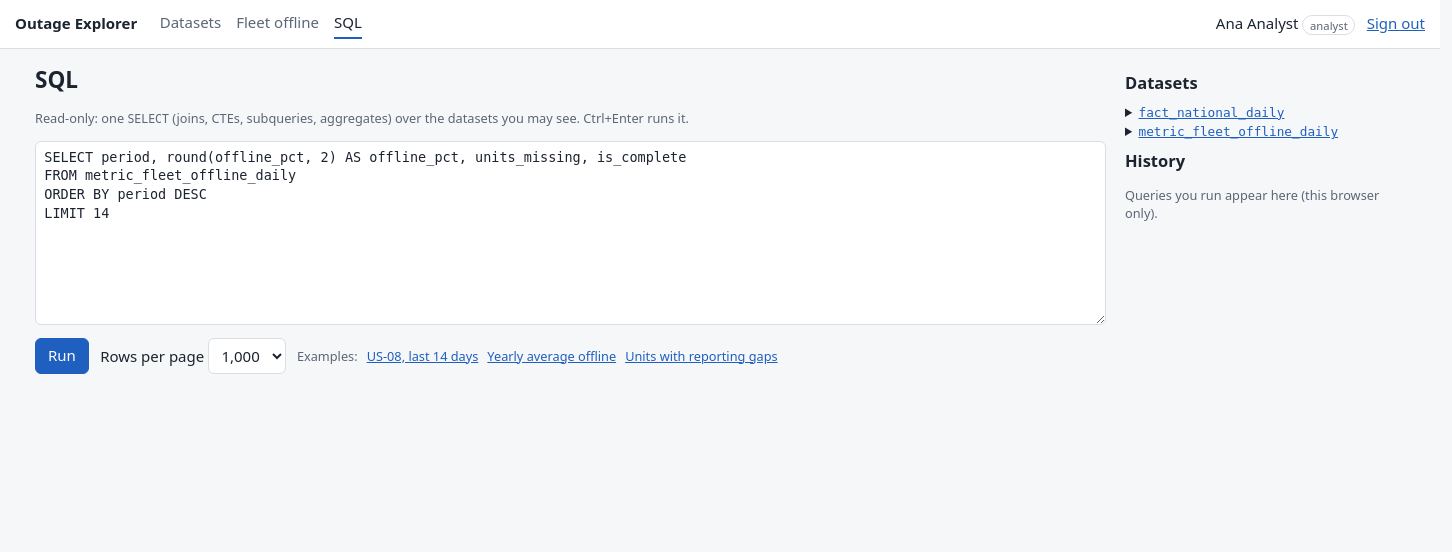
Test: SQL page › running the editor again starts from the first page
Click the button "Run" at (62, 356), box [35, 338, 89, 374]
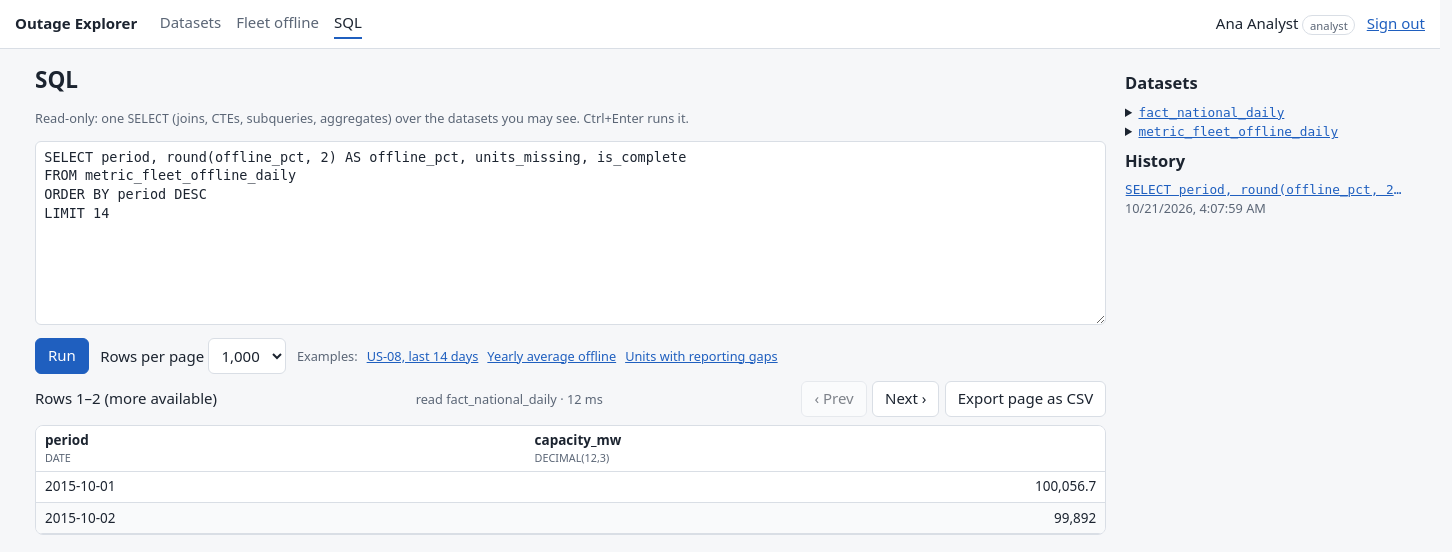
Click the button "Next ›" at (906, 399), box [872, 381, 940, 417]
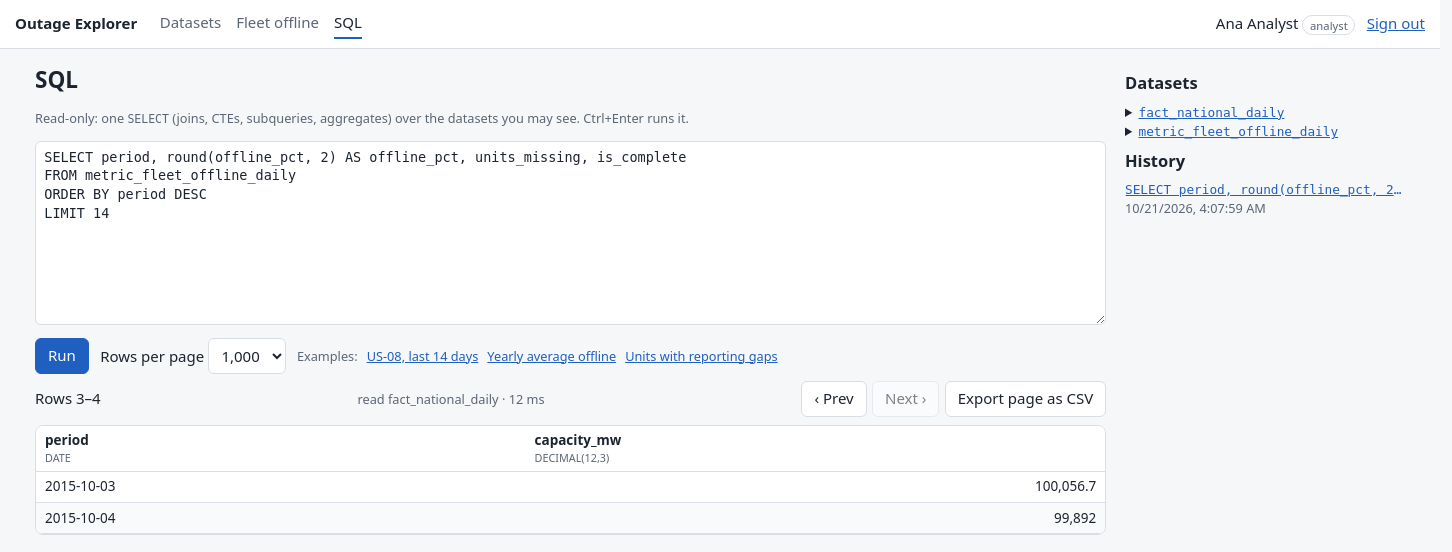
Now the text "Rows 3–4" is shown, box [35, 388, 101, 410]
Click the button "Run" at (62, 356), box [35, 338, 89, 374]
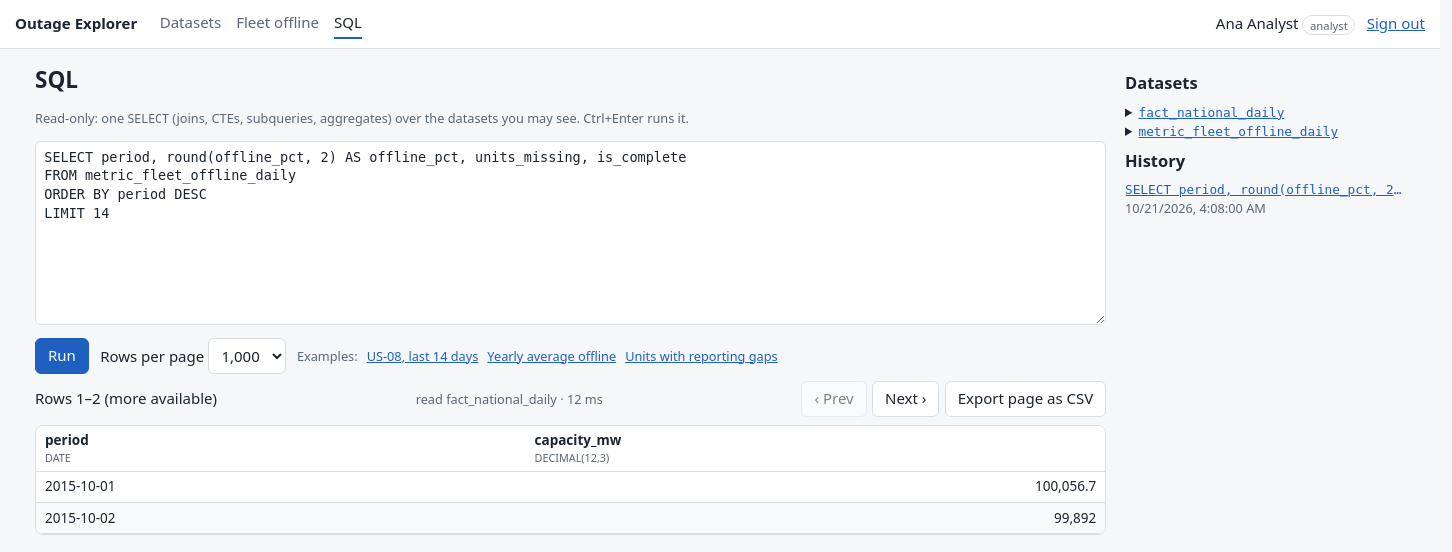
Now the text "Rows 1–2 (more available)" is shown, box [35, 388, 217, 410]
Now the button "‹ Prev" is disabled, box [801, 381, 867, 417]
